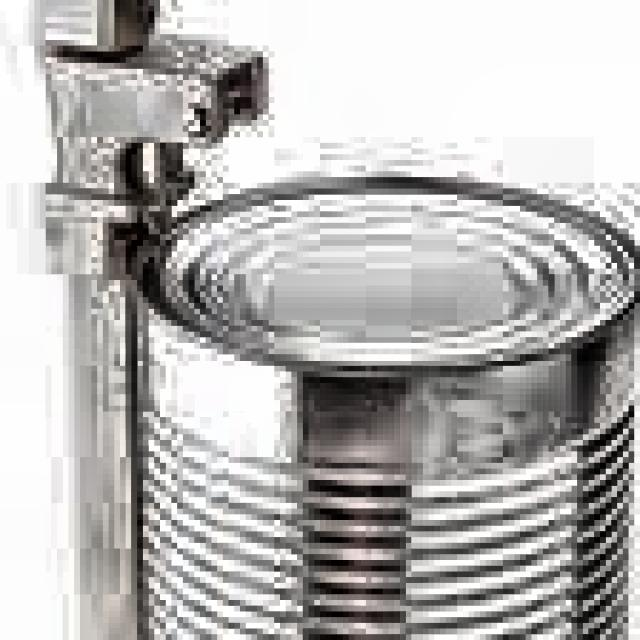metal: (114, 160, 640, 640)
